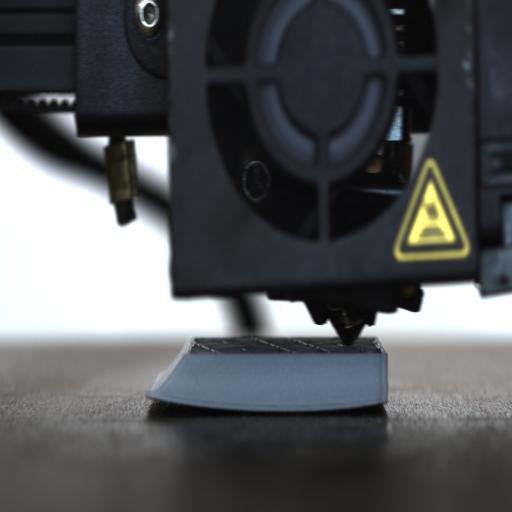warp: (142, 388, 220, 414), (340, 391, 392, 415)
